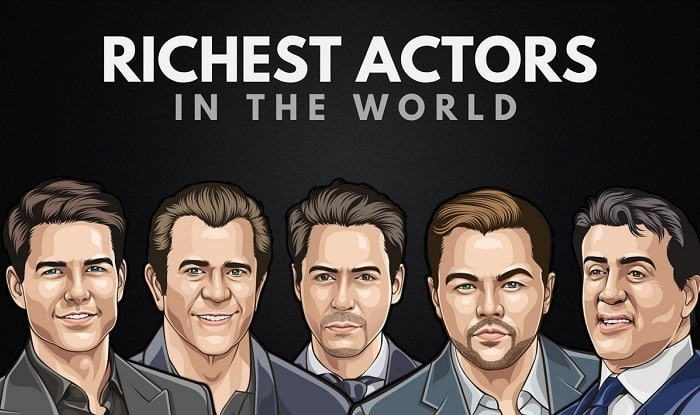bad: (294, 247, 402, 355), (557, 235, 665, 343), (20, 247, 127, 355), (438, 259, 545, 367), (163, 247, 270, 355)
